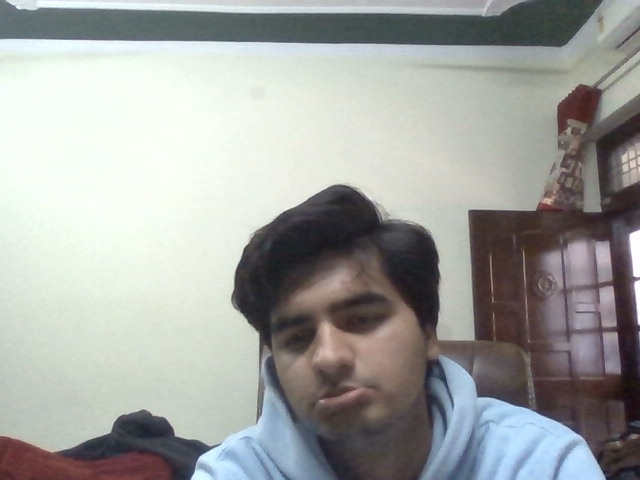sadness: (273, 285, 412, 419)
